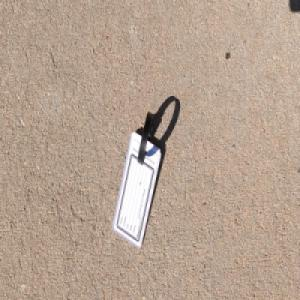LuggageTag: (112, 111, 162, 251)
